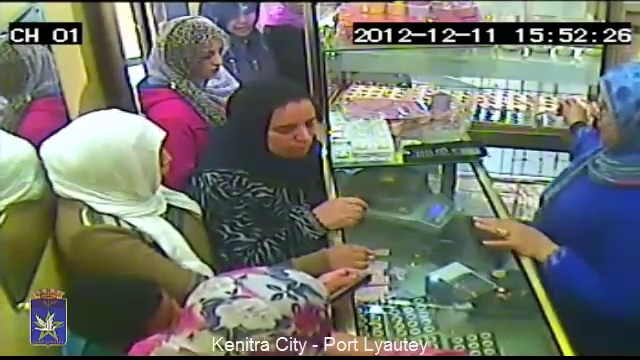face: (271, 112, 319, 159), (192, 36, 222, 79), (218, 8, 262, 33)
